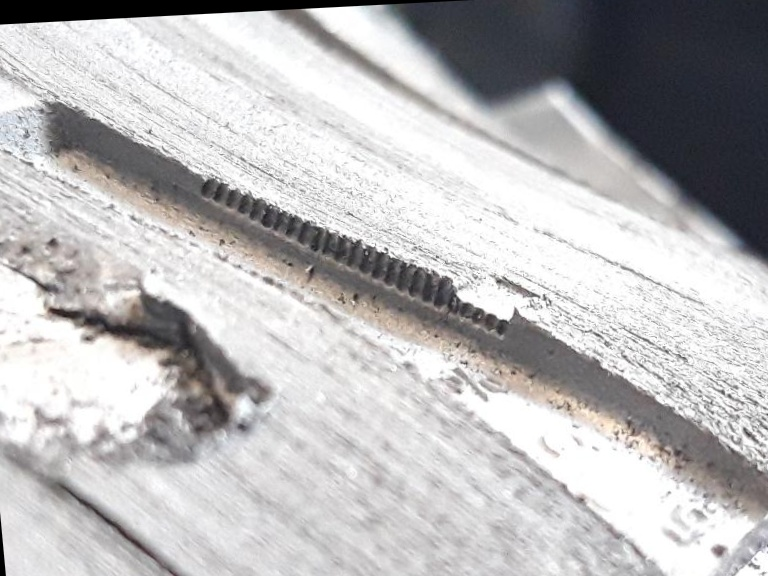temoin:0: (390, 219, 559, 358)
